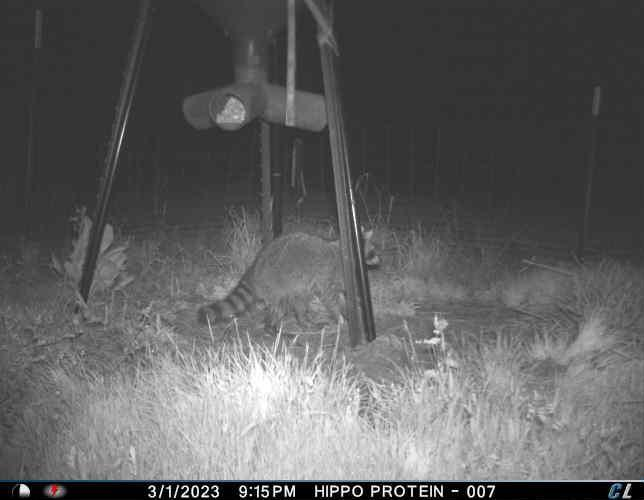Raccoon: (201, 221, 381, 344)
